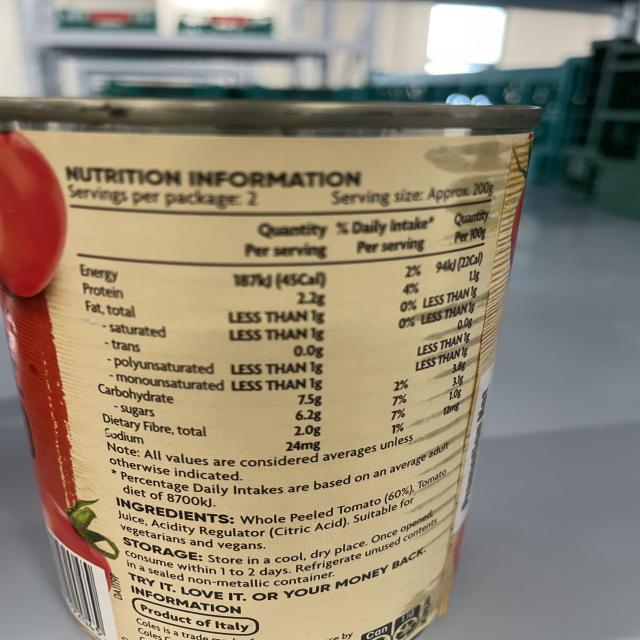object_name: (11, 107, 498, 637)
